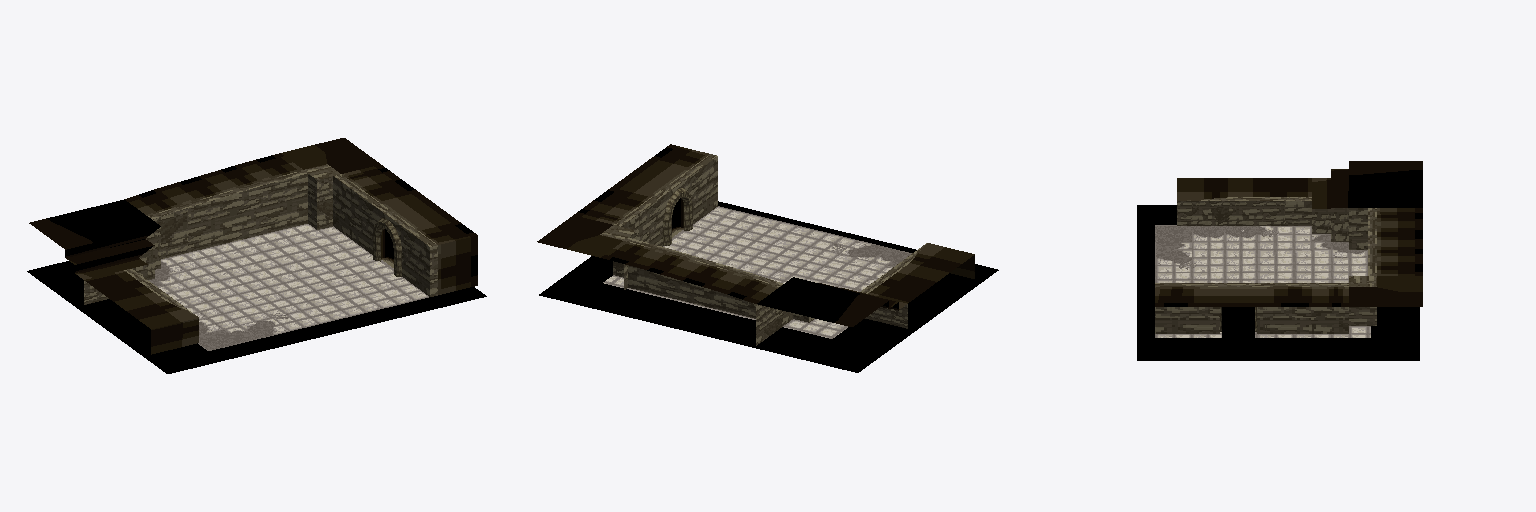
3 renders of one model, left to right at view 1: azimuth 30°, elevation 25°; view 2: azimuth 150°, elevation 25°; view 3: azimuth 270°, elevation 25°, orthographic.
Visible parts, largest first — view 1: polygon4, polygon1, polygon0, polygon8, polygon2, polygon3; view 2: polygon4, polygon1, polygon0, polygon8, polygon2, polygon3; view 3: polygon4, polygon0, polygon1, polygon8, polygon2.
Part boxes in pixels (left/top/right/bottom): polygon4: left=27, top=138, right=486, bottom=373; polygon1: left=158, top=224, right=428, bottom=330; polygon0: left=124, top=164, right=437, bottom=316; polygon8: left=84, top=176, right=351, bottom=304; polygon2: left=148, top=258, right=289, bottom=350; polygon3: left=373, top=218, right=401, bottom=276; polygon4: left=537, top=144, right=998, bottom=372; polygon1: left=603, top=206, right=887, bottom=338; polygon0: left=600, top=154, right=926, bottom=322; polygon8: left=613, top=214, right=907, bottom=345; polygon2: left=840, top=240, right=911, bottom=290; polygon3: left=663, top=188, right=692, bottom=245; polygon4: left=1137, top=161, right=1422, bottom=360; polygon0: left=1155, top=197, right=1376, bottom=333; polygon1: left=1155, top=226, right=1370, bottom=337; polygon8: left=1192, top=201, right=1367, bottom=333; polygon2: left=1155, top=225, right=1367, bottom=264.
Size of the model in its own units: 5 by 0.8125 by 3.88.
9 materials, 9 textured.